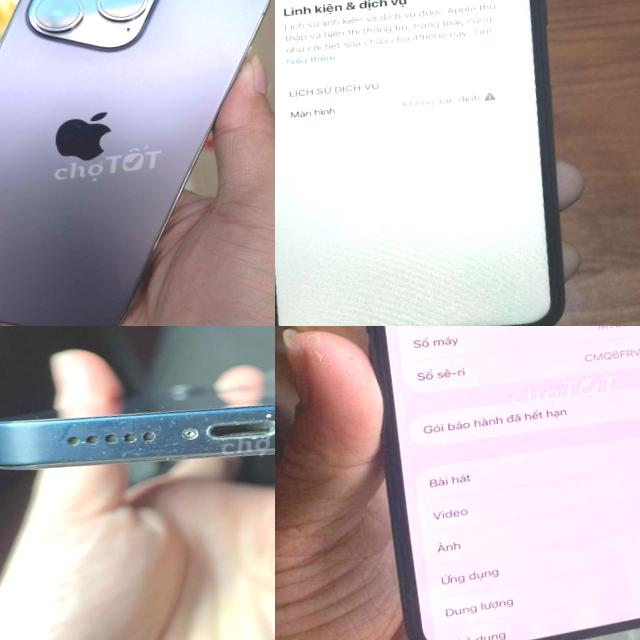gen_11: (275, 0, 562, 326)
gen_12_13: (0, 326, 275, 553)
gen_14: (0, 0, 275, 326)
gen_15: (339, 326, 640, 640)
scratch: (20, 367, 275, 501)
